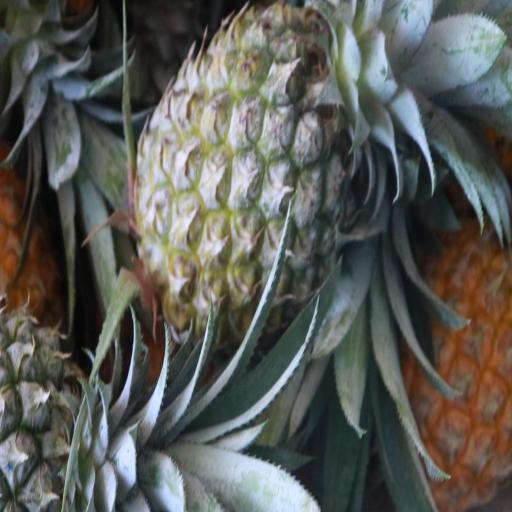------------------------------: (134, 2, 360, 344)
Pineapple - v8 v1: (401, 218, 512, 512)
